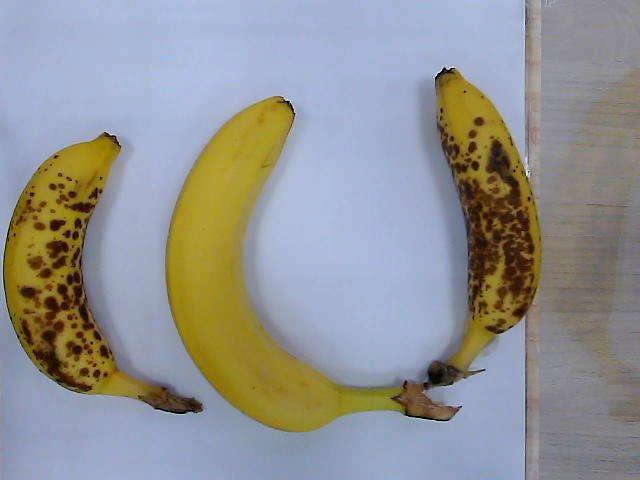fresh_banana: (165, 95, 454, 433)
rotten_banana: (4, 132, 203, 414), (427, 66, 542, 385)
